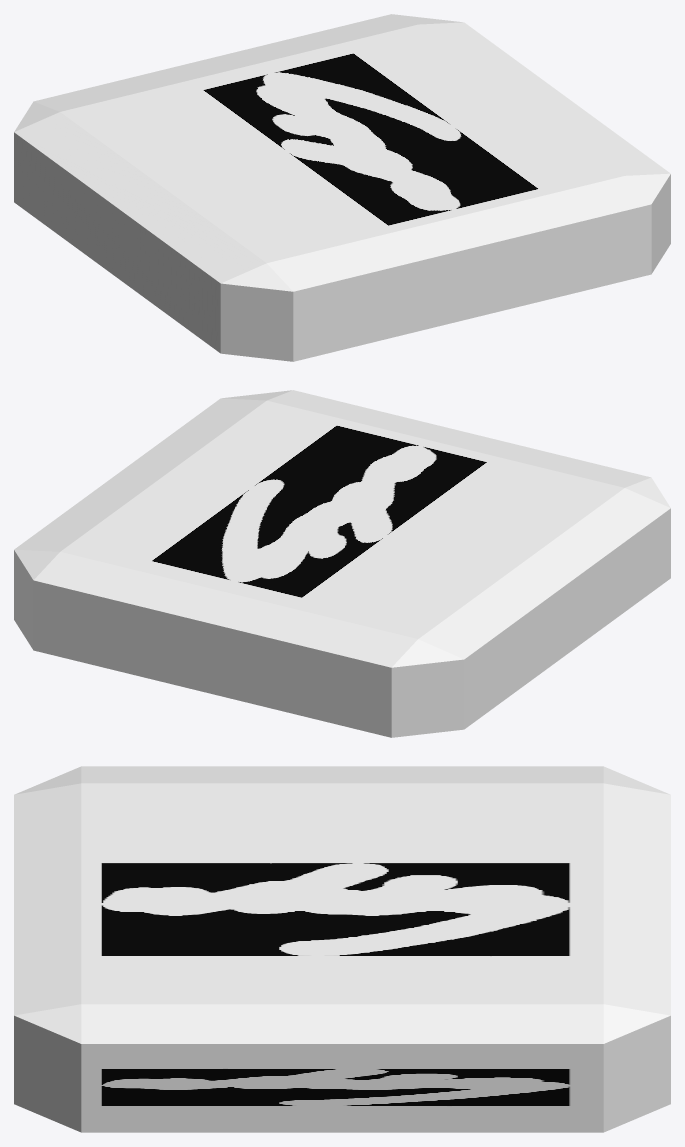
File: rune.obj
3 views of the same model, one above another, from view 1: azimuth 30°, elevation 25°; view 2: azimuth 150°, elevation 25°; view 3: azimuth 270°, elevation 25° (orthographic). The views are drawn at different scales.
Parts seen in each view (by area): view 1: Cube_Cube.001; view 2: Cube_Cube.001; view 3: Cube_Cube.001.
Boxes of the visible parts, <box> form: Cube_Cube.001: <box>14,14,670,361</box>; Cube_Cube.001: <box>14,390,670,737</box>; Cube_Cube.001: <box>14,766,670,1132</box>.
Bounding box in the file's own units: 2 × 0.3742 × 2.
Materials: 1 (1 with a texture image).
